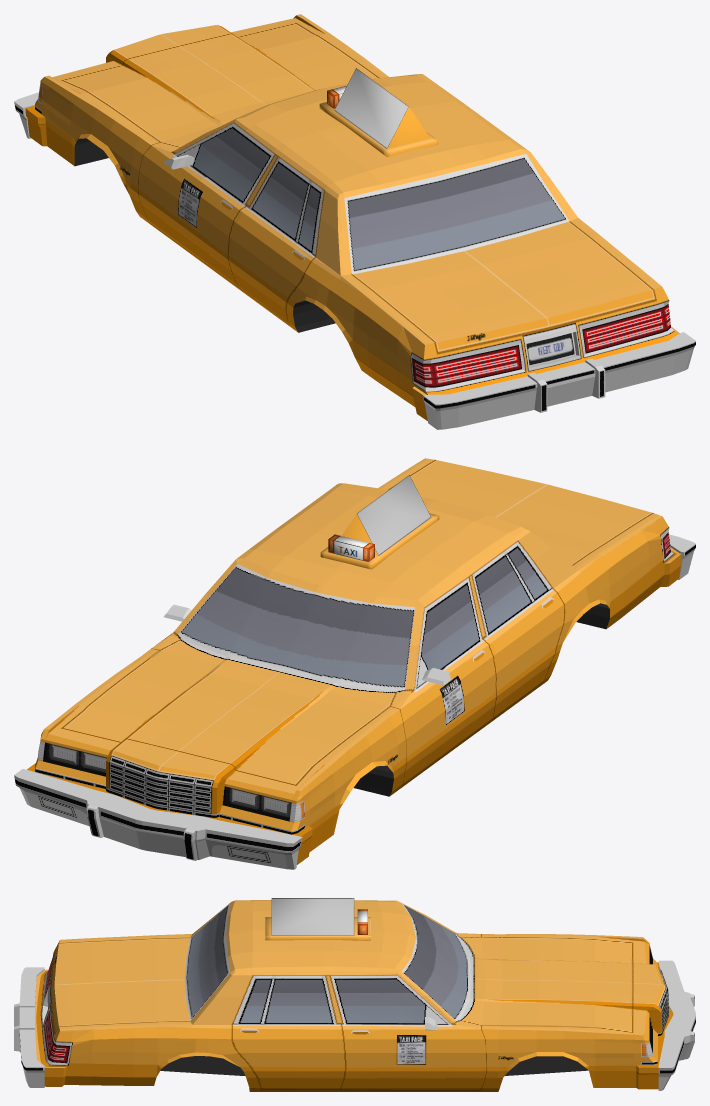
File: 81stregistaxi2.fbx
The picture shows the model from 3 angles, top to bottom: view 1: azimuth 30°, elevation 25°; view 2: azimuth 150°, elevation 25°; view 3: azimuth 270°, elevation 25°; orthographic projection. The views are drawn at different scales.
Parts seen in each view (by area): view 1: 81stregis; view 2: 81stregis; view 3: 81stregis.
Part boxes in pixels (x1,y1,x2,y2): 81stregis: (14, 14, 695, 429); 81stregis: (14, 458, 695, 869); 81stregis: (14, 898, 695, 1091).
Bounding box in the file's own units: 2.35 × 1.49 × 6.31.
